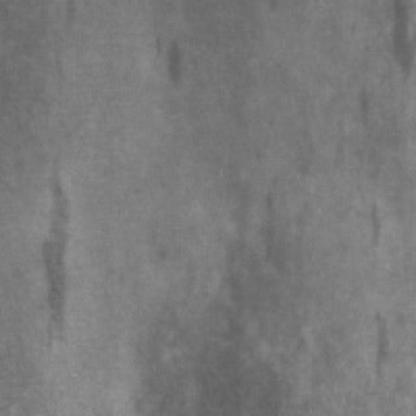inclusion: (146, 224, 298, 408), (33, 162, 81, 350), (144, 29, 189, 96), (354, 310, 391, 391), (376, 0, 412, 75)
